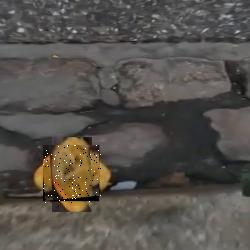restaffald: (44, 146, 102, 204)
